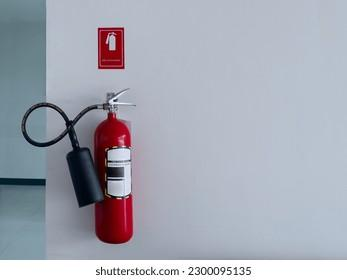wall-mounted: (19, 79, 143, 250)
